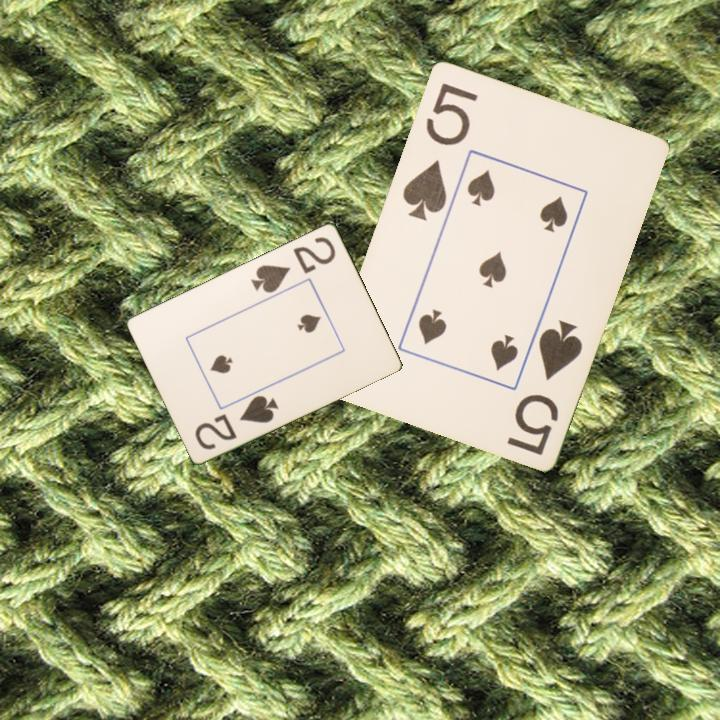2s: (248, 233, 339, 296), (191, 391, 282, 452)
5s: (398, 79, 481, 223), (503, 315, 585, 458)
